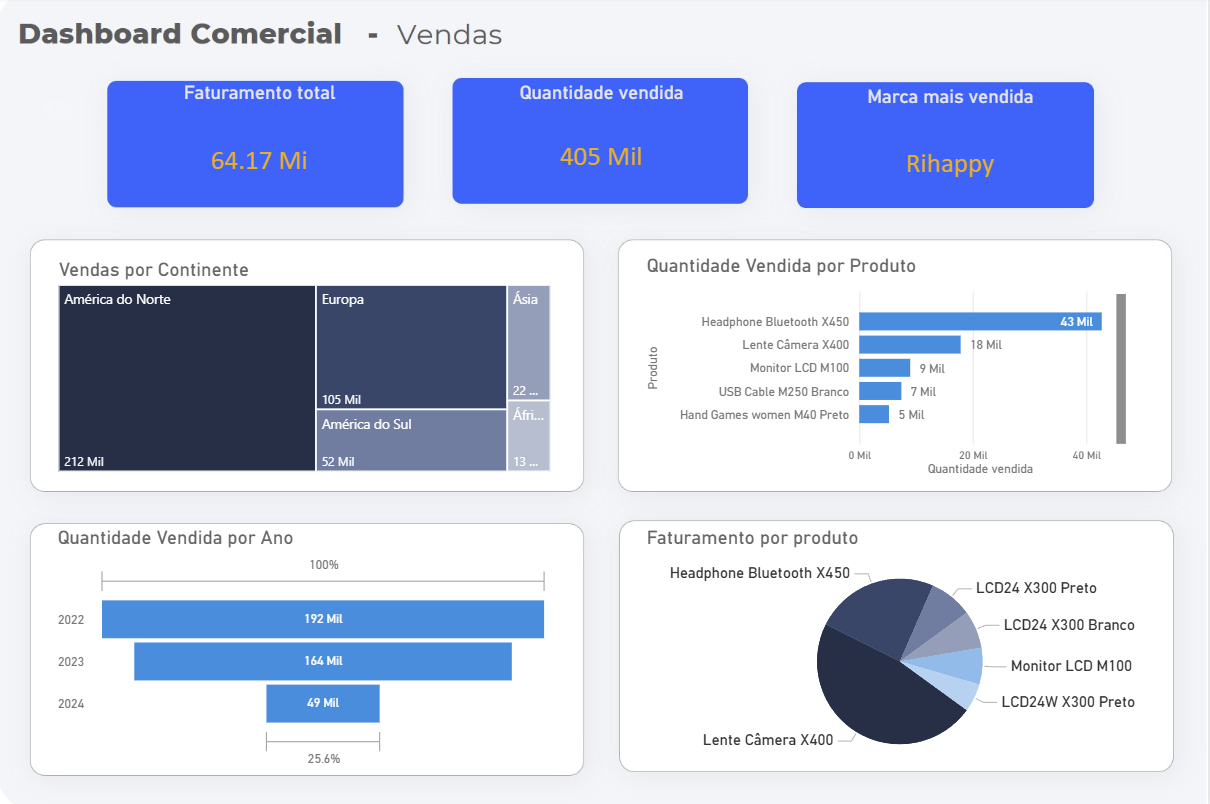

The page's visual inventory and layout, read from the dashboard file:
{"tool":"powerbi","page":{"name":"Página 1","canvas":[1280,720],"ordinal":0},"visuals":[{"type":"actionButton","box":[3.9,0,100,40],"z":1000},{"type":"cardVisual","title":"Faturamento total","fields":{"Data":["Sum(Vendas.Faturamento)"]},"box":[346.3,74.9,180.9,110.9],"z":1001},{"type":"cardVisual","title":"Quantidade vendida","fields":{"Data":["Sum(Vendas.Qtd. Vendida)"]},"box":[650.7,74.9,180.9,104.1],"z":1004},{"type":"cardVisual","title":"Marca mais vendida","fields":{"Data":["Min(Vendas.Marca)"]},"box":[958.1,77.8,185.8,108],"z":1005},{"type":"treemap","title":"Vendas por Continente","fields":{"Group":["Vendas.Continente"],"Values":["Sum(Vendas.Qtd. Vendida)"]},"box":[253.3,232,447.1,194.7],"z":1006},{"type":"clusteredBarChart","title":"Quantidade Vendida por Produto","fields":{"Category":["Vendas.Produto"],"Y":["Sum(Vendas.Qtd. Vendida)"]},"box":[776,228.4,435.6,201.8],"z":1007},{"type":"funnel","title":"Quantidade Vendida por Ano","fields":{"Y":["Sum(Vendas.Qtd. Vendida)"],"Category":["Vendas.Data da Venda.Variation.Hierarquia de datas.Ano"]},"box":[252.9,469.8,447.4,219.8],"z":1008},{"type":"pieChart","title":"Faturamento por produto","fields":{"Category":["Vendas.Produto"],"Y":["Sum(Vendas.Faturamento)"]},"box":[776.2,469.8,460.1,219.8],"z":1009}]}

Visuals, with their boxes on the page's 1280x720 design canvas (x1, y1, x2, y2). These are canvas units, not pixel positions in the 1210x804 screenshot, which may show the page scaled, cropped or inside an application window:
actionButton: (x1=4, y1=0, x2=104, y2=40)
"Faturamento total" cardVisual: (x1=346, y1=75, x2=527, y2=186)
"Quantidade vendida" cardVisual: (x1=651, y1=75, x2=832, y2=179)
"Marca mais vendida" cardVisual: (x1=958, y1=78, x2=1144, y2=186)
"Vendas por Continente" treemap: (x1=253, y1=232, x2=700, y2=427)
"Quantidade Vendida por Produto" clusteredBarChart: (x1=776, y1=228, x2=1212, y2=430)
"Quantidade Vendida por Ano" funnel: (x1=253, y1=470, x2=700, y2=690)
"Faturamento por produto" pieChart: (x1=776, y1=470, x2=1236, y2=690)
